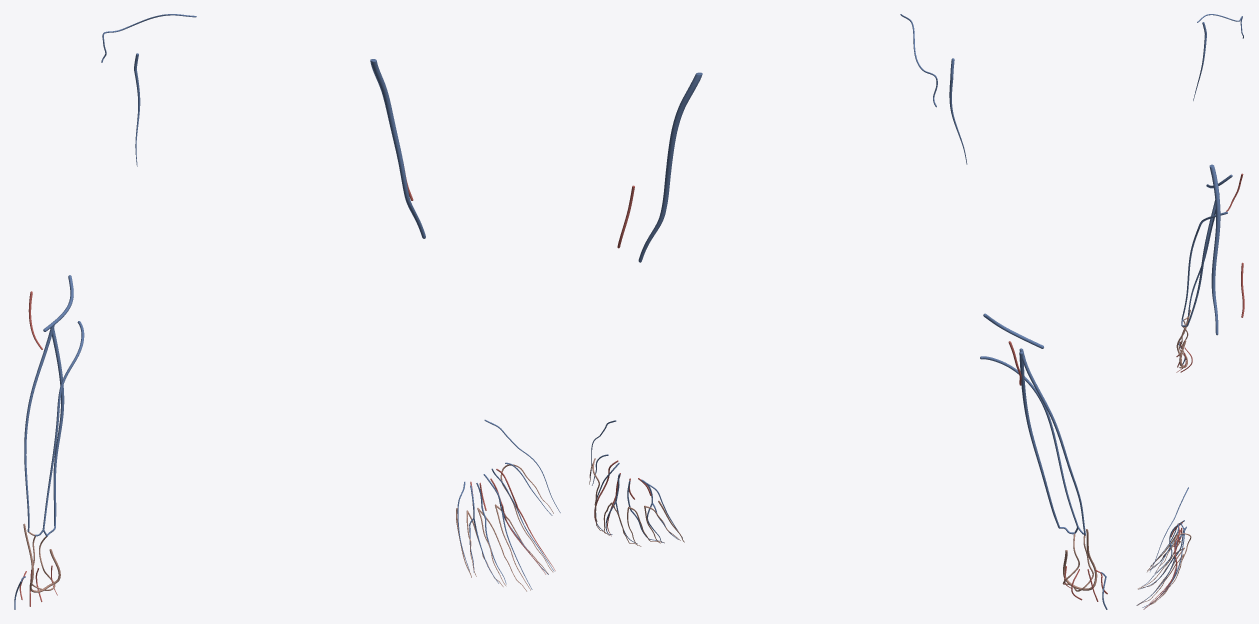
Rendered from other-33.glb.
3 views of the same model, side by side, from view 1: azimuth 30°, elevation 25°; view 2: azimuth 150°, elevation 25°; view 3: azimuth 270°, elevation 25° (orthographic). The views are drawn at different scales.
Visible parts, largest first — view 1: FJ2318, FJ2313; view 2: FJ2313, FJ2318, FJ2312; view 3: FJ2313, FJ2318, FJ2312, FJ2286, FJ2296.
Part boxes in pixels (x1,y1,x2,y2): FJ2318: (456,464,553,591); FJ2313: (370,59,425,238); FJ2313: (638,72,702,262); FJ2318: (589,458,684,546); FJ2312: (1019,351,1075,534); FJ2313: (1209,164,1220,335); FJ2318: (1137,532,1191,605); FJ2312: (1181,193,1219,326); FJ2286: (1181,211,1227,325); FJ2296: (1187,209,1215,316).
Size of the model in its own units: 0.6113 by 0.6895 by 0.1428.
